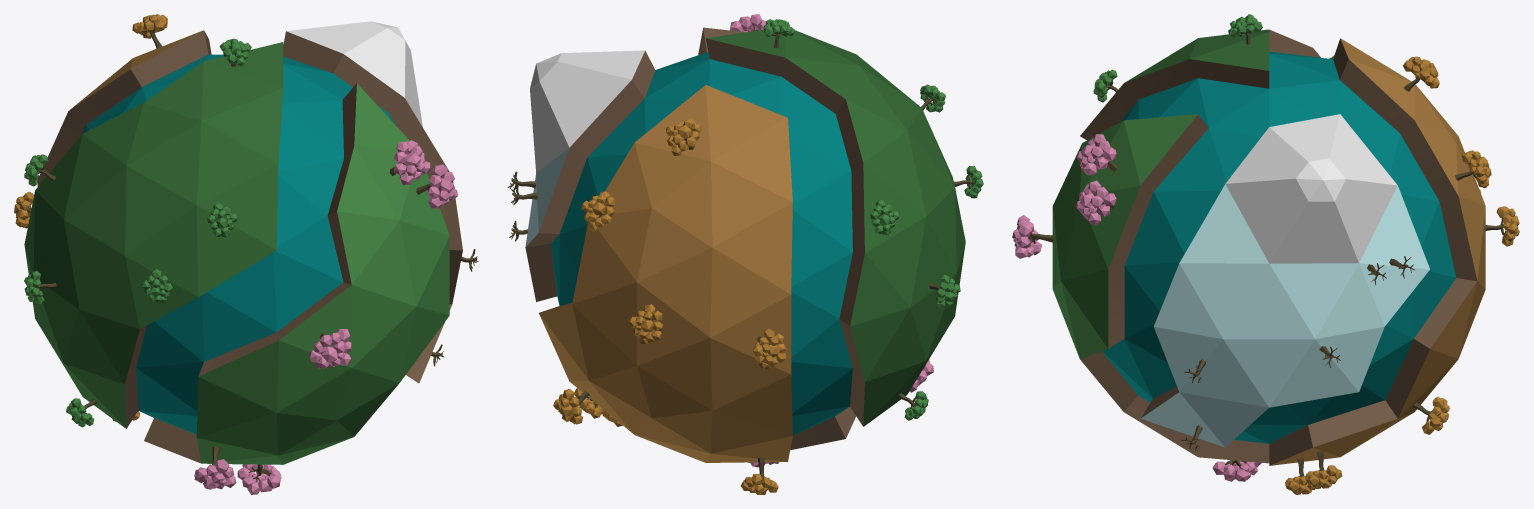
File: planet.fbx
3 renders of one model, left to right at view 1: azimuth 30°, elevation 25°; view 2: azimuth 150°, elevation 25°; view 3: azimuth 270°, elevation 25°, orthographic.
Visible parts, largest first — view 1: Summer, Spring, Winter, Autumn; view 2: Autumn, Summer, Winter, Spring; view 3: Winter, Autumn, Spring, Summer.
Part boxes in pixels (bbox=[...]): Summer: bbox=[24, 38, 319, 428]; Spring: bbox=[144, 69, 457, 494]; Winter: bbox=[283, 21, 478, 383]; Autumn: bbox=[14, 14, 223, 421]; Autumn: bbox=[539, 76, 831, 494]; Summer: bbox=[678, 19, 983, 426]; Winter: bbox=[507, 50, 684, 301]; Spring: bbox=[678, 14, 933, 467]; Winter: bbox=[1125, 104, 1436, 450]; Autumn: bbox=[1235, 38, 1519, 494]; Spring: bbox=[1012, 102, 1269, 481]; Summer: bbox=[1080, 14, 1334, 140].
Bounding box in the file's own units: 2.45 × 2.52 × 2.57.
